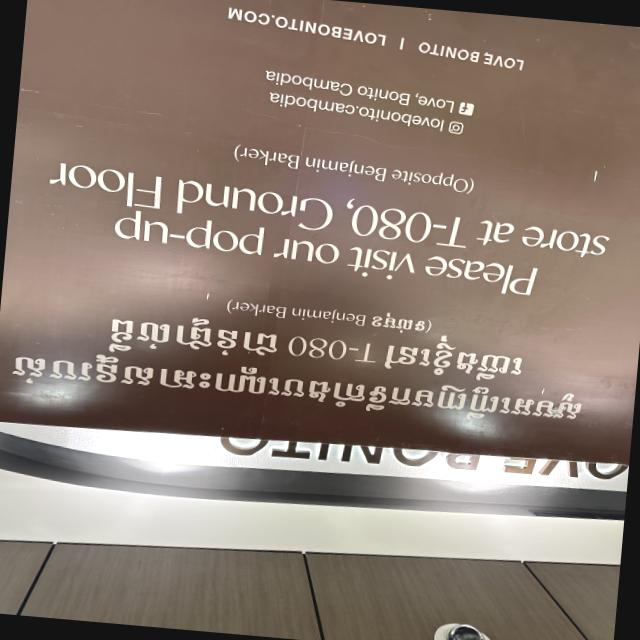94: (100, 307, 540, 387)
Yolov11kh: (5, 345, 597, 429), (216, 285, 444, 336)
